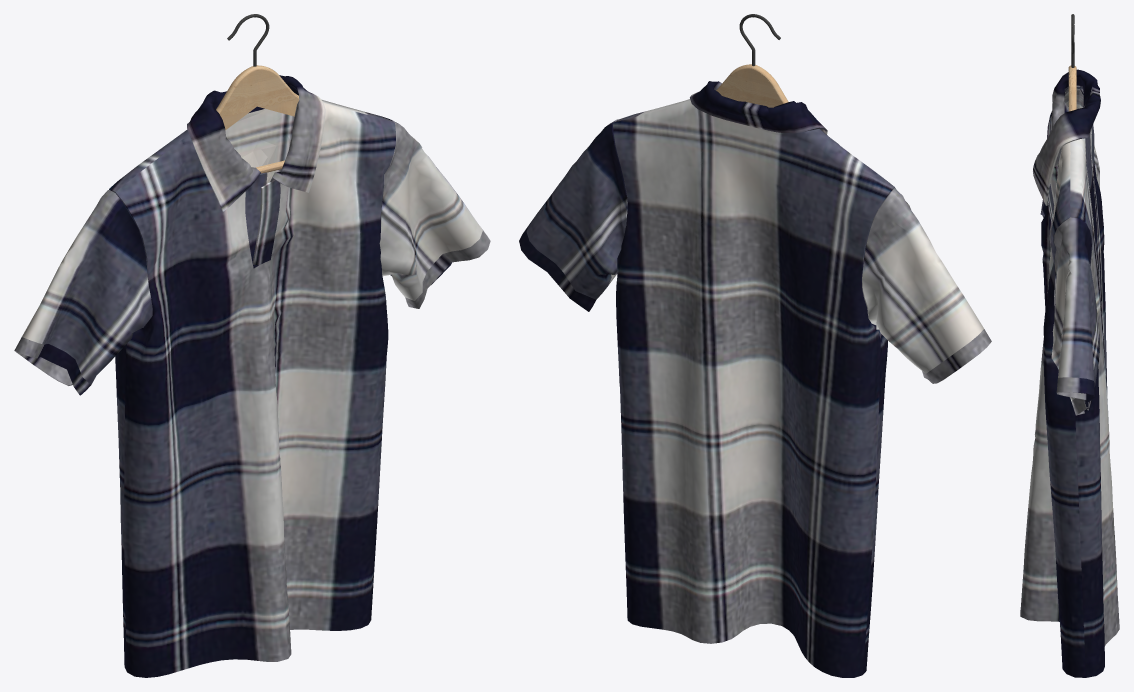
The model's file is shirt 5.FBX.
The picture shows the model from 3 angles, left to right: view 1: azimuth 30°, elevation 25°; view 2: azimuth 150°, elevation 25°; view 3: azimuth 270°, elevation 25°; orthographic projection. The views are drawn at different scales.
Parts seen in each view (by area): view 1: Shirt 5, hanger; view 2: Shirt 5, hanger; view 3: Shirt 5, hanger.
Boxes of the visible parts, x1,y1,x2,y2 form: Shirt 5: [14, 75, 490, 677]; hanger: [216, 14, 299, 173]; Shirt 5: [519, 81, 991, 677]; hanger: [716, 14, 788, 107]; Shirt 5: [1020, 69, 1119, 677]; hanger: [1068, 14, 1076, 111].
Bounding box in the file's own units: 68.57 × 88.64 × 13.2.
3 materials, 2 textured.
